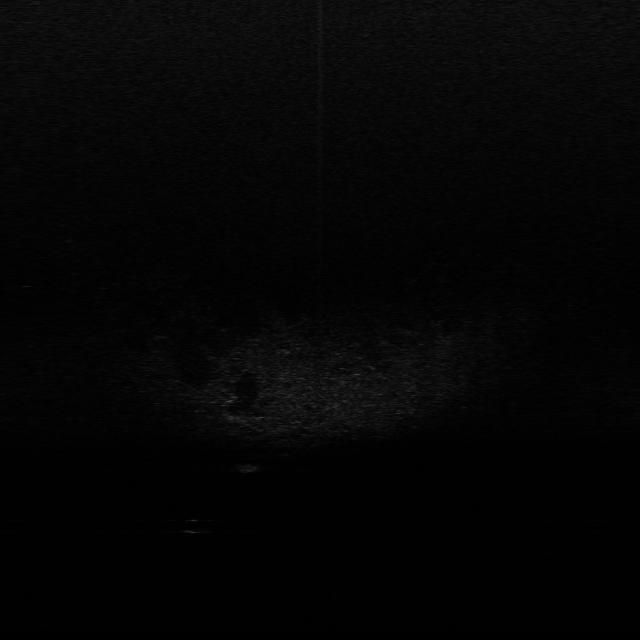ball: (179, 515, 213, 536)
cube: (233, 458, 259, 473)
